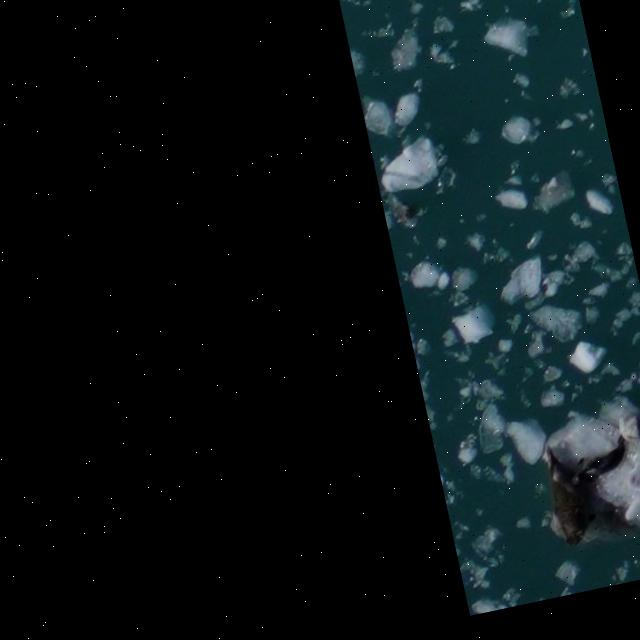seal: (541, 441, 600, 547), (573, 435, 635, 491)
